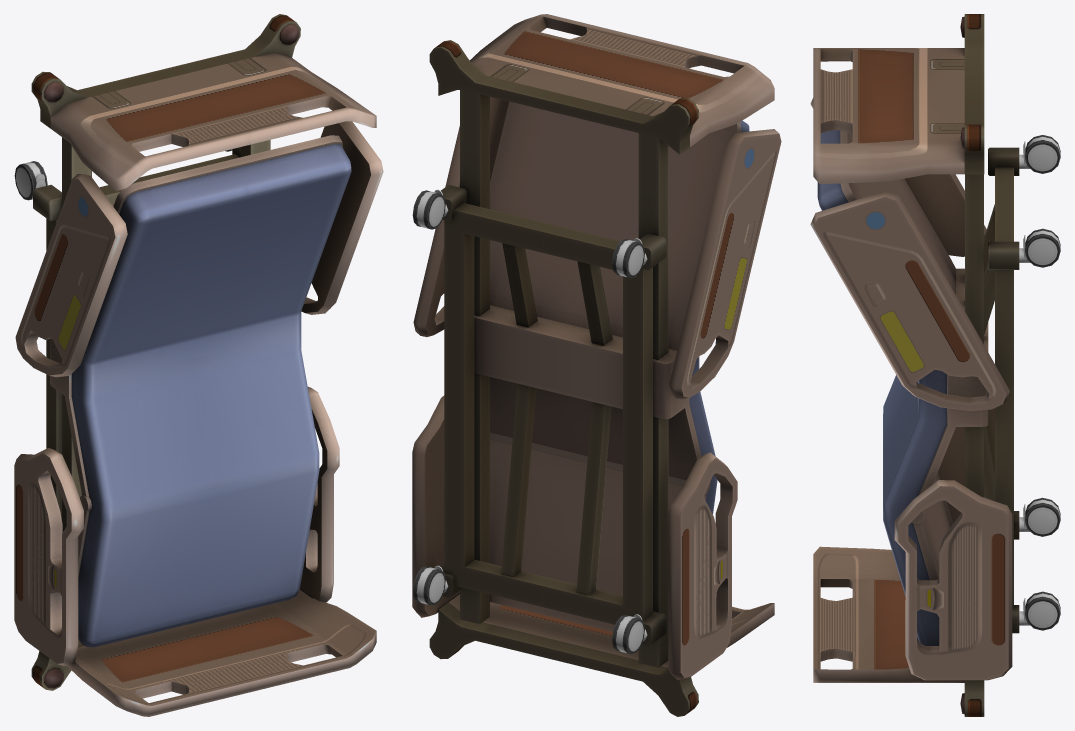
Rendered from CGMClassic.obj.
The picture shows the model from 3 angles, left to right: view 1: azimuth 30°, elevation 25°; view 2: azimuth 150°, elevation 25°; view 3: azimuth 270°, elevation 25°; orthographic projection. The views are drawn at different scales.
Parts seen in each view (by area): view 1: CGMClassic; view 2: CGMClassic; view 3: CGMClassic.
Boxes of the visible parts, bbox=[...] form: CGMClassic: bbox=[14, 14, 383, 716]; CGMClassic: bbox=[412, 14, 781, 716]; CGMClassic: bbox=[810, 14, 1060, 716].
Bounding box in the file's own units: 109 × 237 × 90.91.
